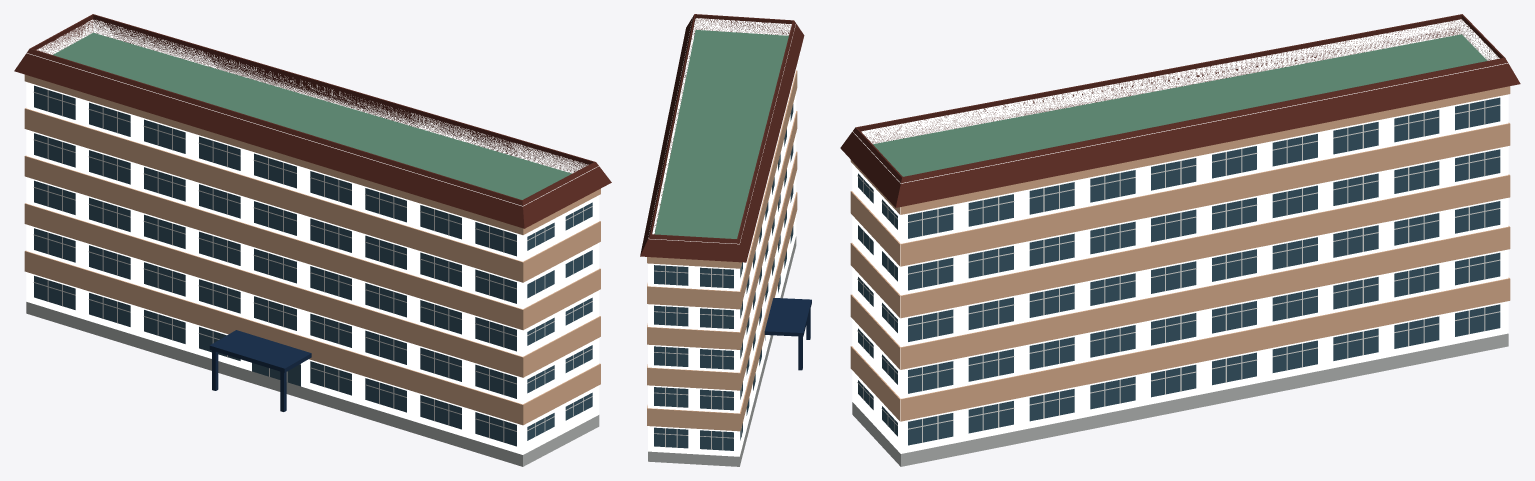
3 renders of one model, left to right at view 1: azimuth 30°, elevation 25°; view 2: azimuth 150°, elevation 25°; view 3: azimuth 270°, elevation 25°, orthographic. The views are drawn at different scales.
Visible parts, largest first — view 1: east__peach-band, east__glass, east__wall-plaster, east__eave-band, east__roof, east__trim-concrete, east__base-stone, east__frame, east__canopy-concrete; view 2: east__roof, east__peach-band, east__eave-band, east__glass, east__wall-plaster, east__trim-concrete, east__canopy-concrete, east__base-stone, east__frame; view 3: east__peach-band, east__glass, east__wall-plaster, east__eave-band, east__roof, east__trim-concrete, east__base-stone, east__frame.
Boxes of the visible parts, x1,y1,x2,y2 form: east__peach-band: (24, 74, 600, 425); east__glass: (34, 85, 592, 446); east__wall-plaster: (26, 53, 599, 454); east__eave-band: (14, 14, 611, 228); east__roof: (53, 32, 571, 199); east__trim-concrete: (32, 19, 594, 447); east__base-stone: (26, 302, 599, 466); east__frame: (33, 90, 592, 442); east__canopy-concrete: (209, 330, 311, 411); east__roof: (654, 30, 788, 238); east__peach-band: (647, 70, 797, 431); east__eave-band: (640, 14, 804, 262); east__glass: (654, 104, 793, 450); east__wall-plaster: (648, 68, 796, 456); east__trim-concrete: (648, 16, 795, 451); east__canopy-concrete: (764, 298, 811, 370); east__base-stone: (648, 236, 796, 466); east__frame: (654, 157, 779, 450); east__peach-band: (850, 86, 1510, 421); east__glass: (858, 97, 1500, 445); east__wall-plaster: (852, 63, 1508, 453); east__eave-band: (840, 14, 1520, 207); east__roof: (873, 34, 1487, 176); east__trim-concrete: (852, 19, 1501, 446); east__base-stone: (852, 333, 1508, 466); east__frame: (857, 100, 1500, 442).
Size of the model in its own units: 26.49 by 20.05 by 42.97.
